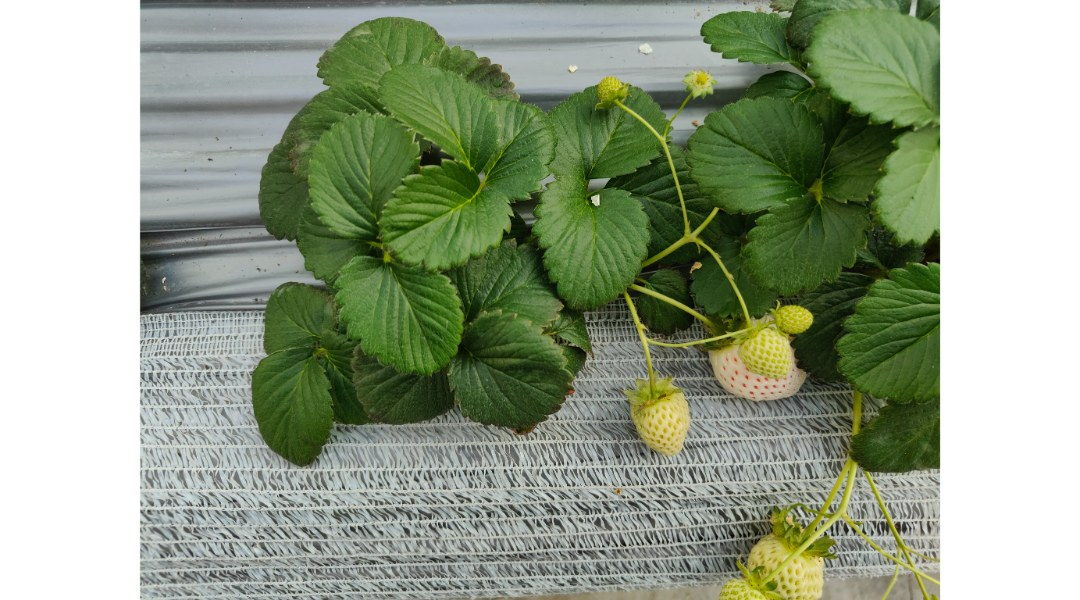berry: (705, 307, 809, 402), (745, 504, 833, 600), (624, 381, 697, 457), (745, 318, 795, 390), (713, 564, 781, 600), (764, 298, 810, 341), (590, 70, 631, 113)
strain: (699, 253, 755, 319), (655, 141, 693, 234), (865, 477, 912, 541), (622, 297, 656, 369)
